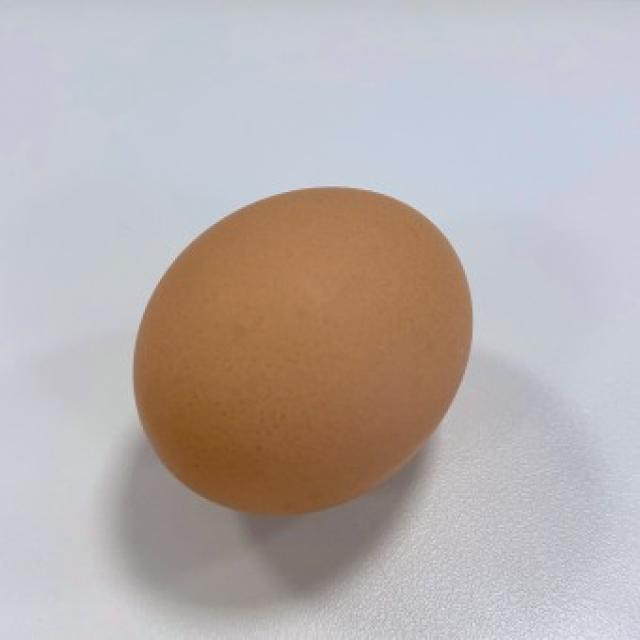eggs: (128, 179, 478, 526)
